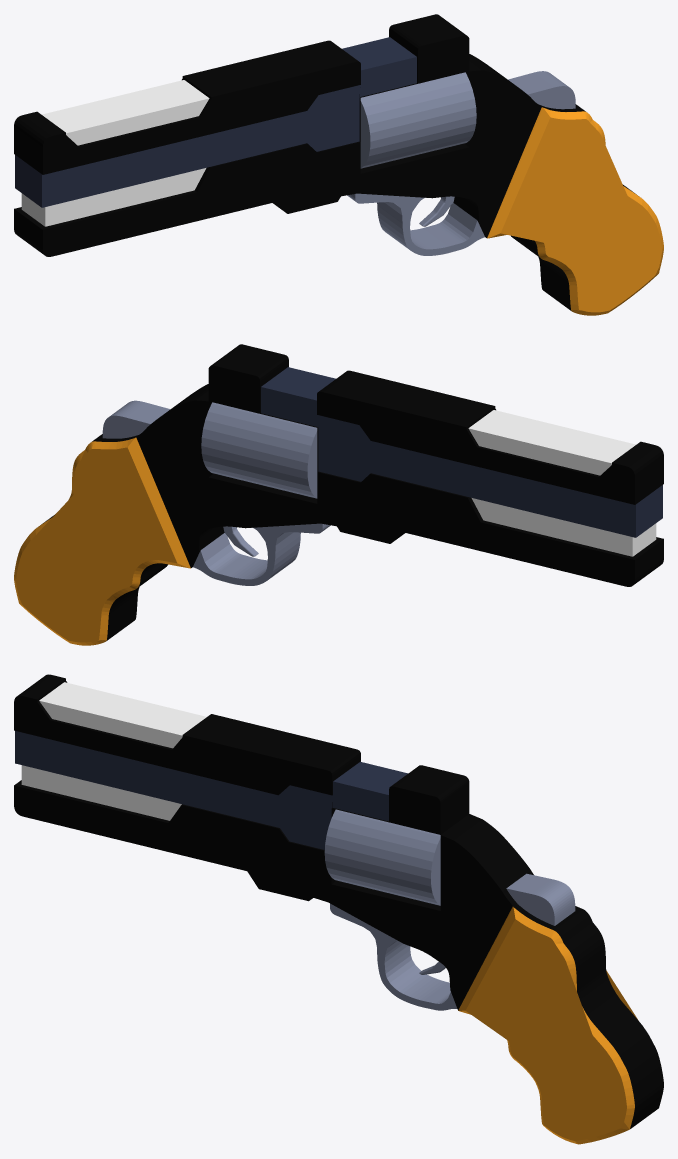
File: GunForKIKUGameTextured.fbx
3 views of the same model, one above another, from view 1: azimuth 30°, elevation 25°; view 2: azimuth 150°, elevation 25°; view 3: azimuth 330°, elevation 25° (orthographic).
Parts seen in each view (by area): view 1: Cylinder; view 2: Cylinder; view 3: Cylinder.
Part boxes in pixels (x1=…): Cylinder: x1=14, y1=14, x2=663, y2=315; Cylinder: x1=14, y1=344, x2=663, y2=645; Cylinder: x1=14, y1=674, x2=663, y2=1144.
Bounding box in the file's own units: 409 × 197 × 52.23.
